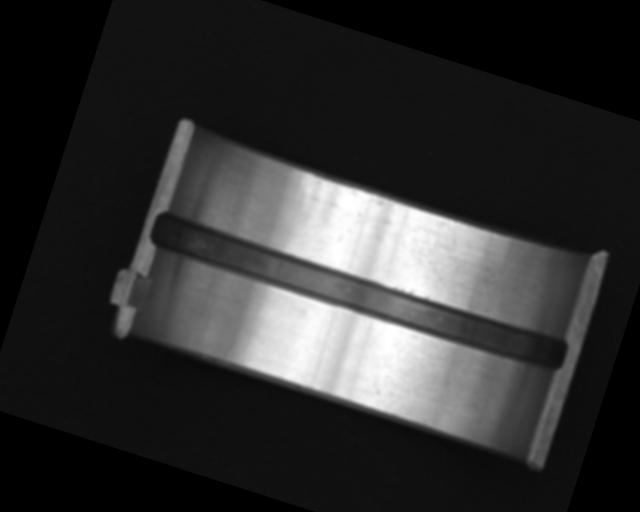gap: (144, 204, 573, 378)
